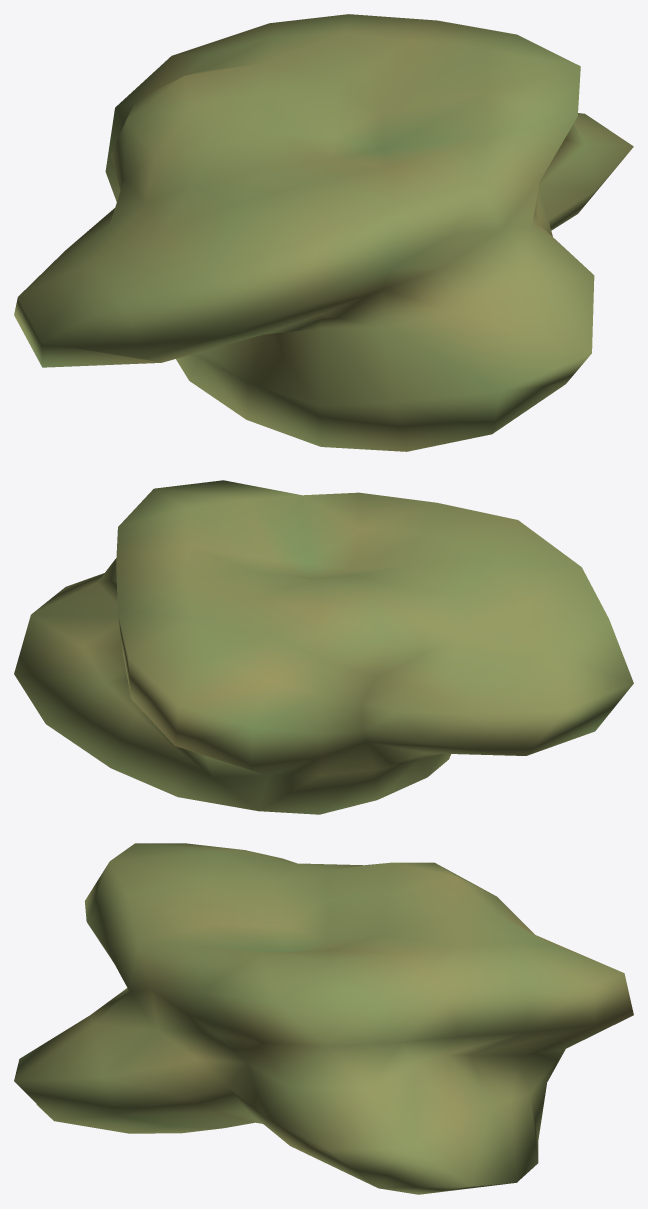
File: SM_BeckStone_5.glb
3 renders of one model, top to bottom at view 1: azimuth 30°, elevation 25°; view 2: azimuth 150°, elevation 25°; view 3: azimuth 270°, elevation 25°, orthographic. The views are drawn at different scales.
Visible parts, largest first — view 1: SM_BeckStone_5; view 2: SM_BeckStone_5; view 3: SM_BeckStone_5.
Part boxes in pixels (box(x1,y1,x2,y2)): SM_BeckStone_5: box(14, 14, 633, 451); SM_BeckStone_5: box(14, 480, 633, 814); SM_BeckStone_5: box(14, 843, 633, 1194).
Bounding box in the file's own units: 1.39 × 0.5618 × 1.27.
